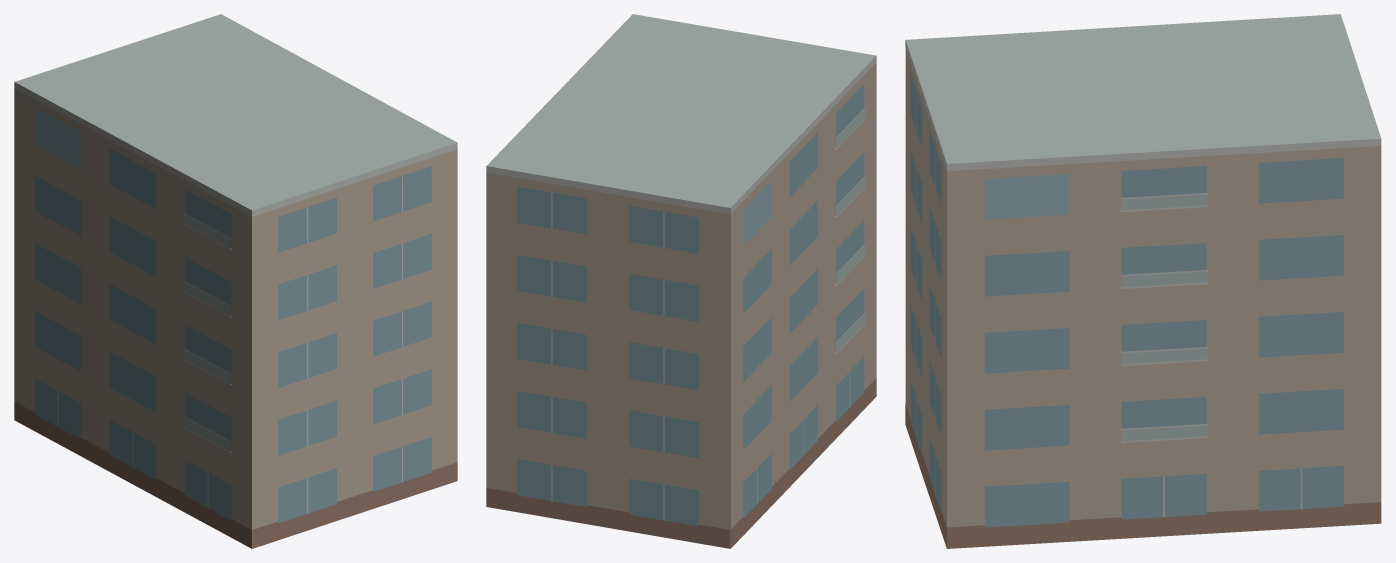
Rendered from survey-upis-32926524.glb.
The picture shows the model from 3 angles, left to right: view 1: azimuth 30°, elevation 25°; view 2: azimuth 150°, elevation 25°; view 3: azimuth 270°, elevation 25°; orthographic projection. The views are drawn at different scales.
Parts seen in each view (by area): view 1: survey-upis-32926524.tmp; view 2: survey-upis-32926524.tmp; view 3: survey-upis-32926524.tmp.
Boxes of the visible parts, left/top/right/bottom form: survey-upis-32926524.tmp: left=14, top=14, right=457, bottom=548; survey-upis-32926524.tmp: left=486, top=14, right=876, bottom=548; survey-upis-32926524.tmp: left=905, top=14, right=1381, bottom=548.
Bounding box in the file's own units: 10.87 × 13 × 14.58.
